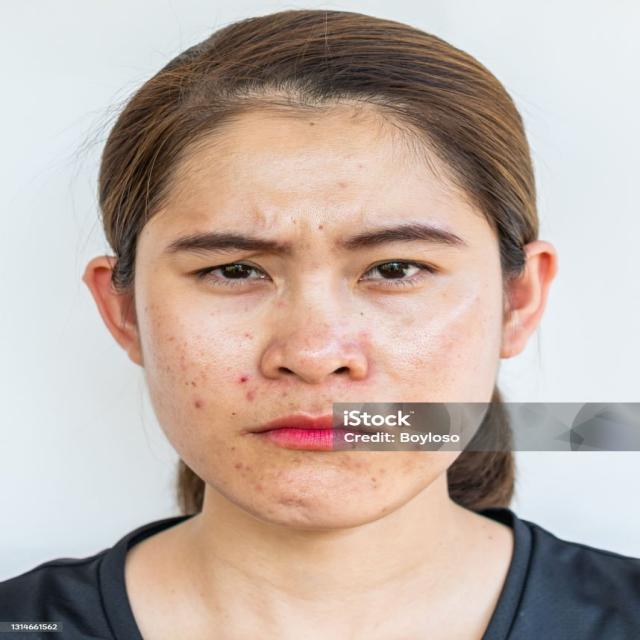papule: (160, 332, 222, 388), (191, 391, 211, 411), (356, 333, 373, 352), (233, 458, 252, 474), (250, 479, 268, 495), (244, 389, 262, 403), (272, 298, 290, 312)
